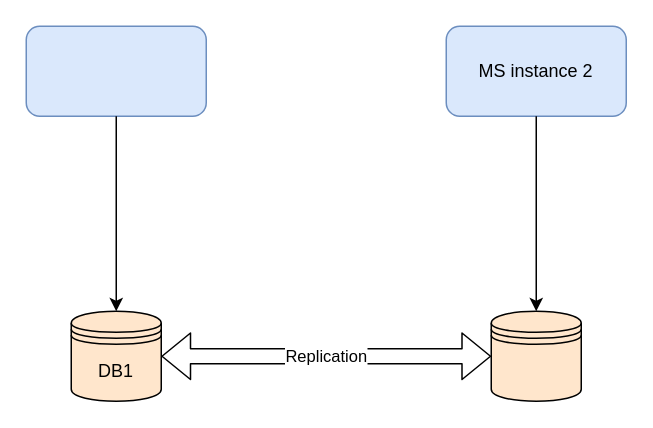
Some shapes in this 653 by 428 pixel diagram are drawn without their labels. The shapes that lost their labels are listed below. From the top down, each one's centre as x and y in pixels, then its label:
pixel 115 70: MS instance 1
pixel 535 355: DB2
